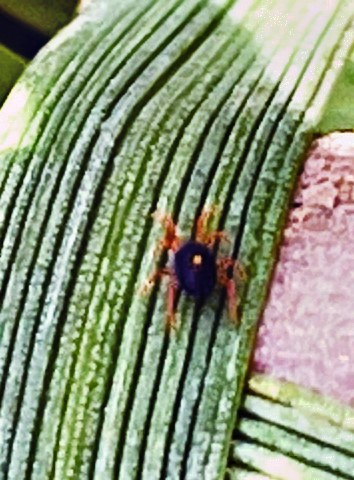Wheat Red Spider: (124, 190, 254, 336)
